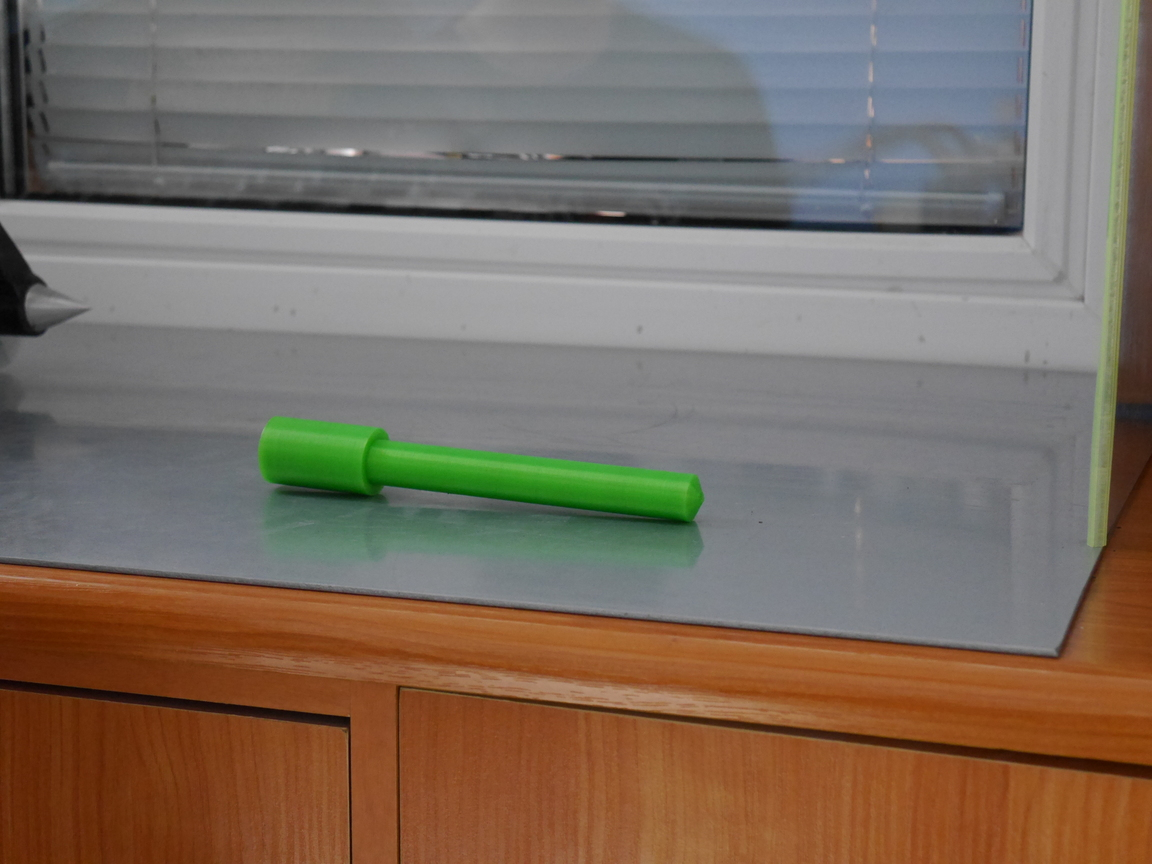cargo_g: (254, 412, 706, 524)
